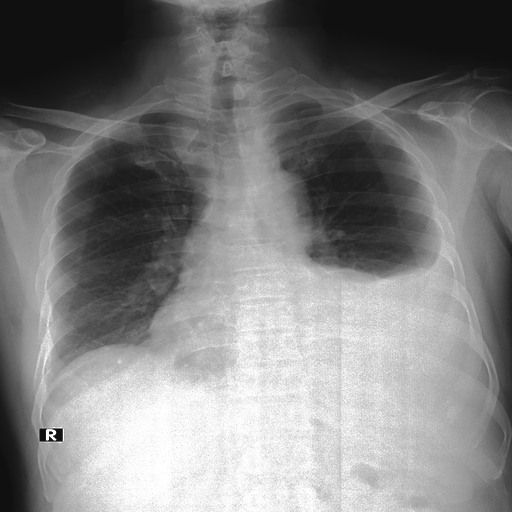Nodule/Mass: (146, 300, 386, 360)
Pleural effusion: (323, 242, 481, 371)
